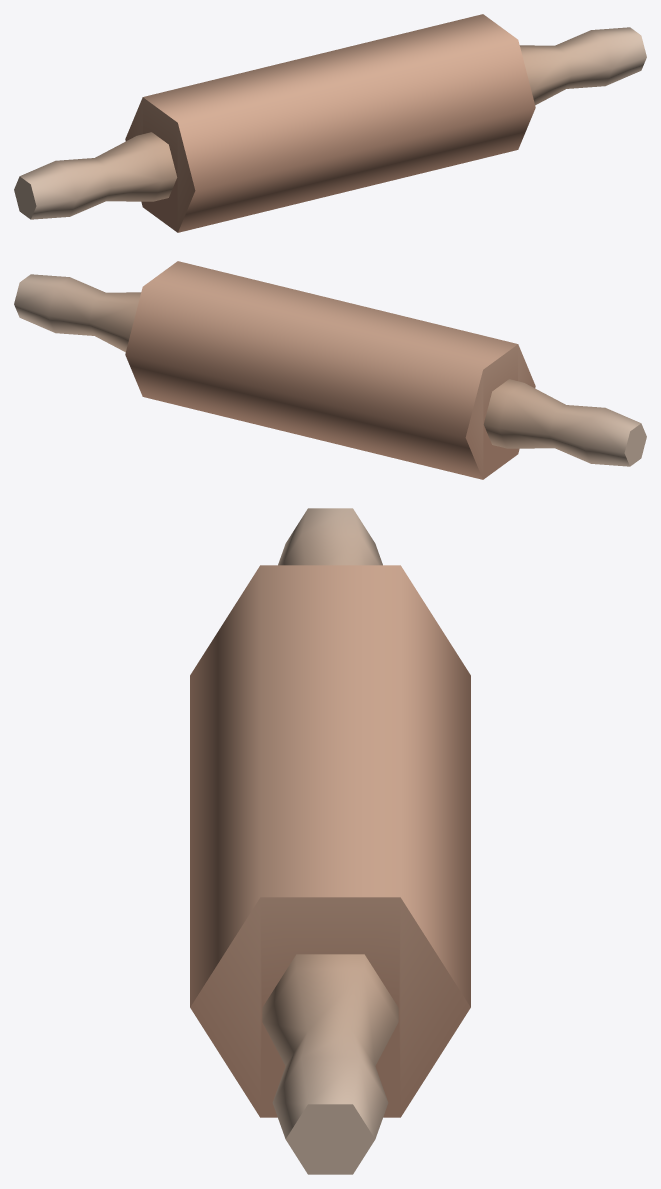
The model's file is rollingPin.glb.
3 renders of one model, top to bottom at view 1: azimuth 30°, elevation 25°; view 2: azimuth 150°, elevation 25°; view 3: azimuth 270°, elevation 25°, orthographic. The views are drawn at different scales.
Visible parts, largest first — view 1: rollingPin; view 2: rollingPin; view 3: rollingPin.
Boxes of the visible parts, x1,y1,x2,y2 form: rollingPin: (14, 14, 646, 232); rollingPin: (14, 261, 646, 479); rollingPin: (190, 508, 470, 1174).
Bounding box in the file's own units: 0.8137 × 0.1403 × 0.162.
